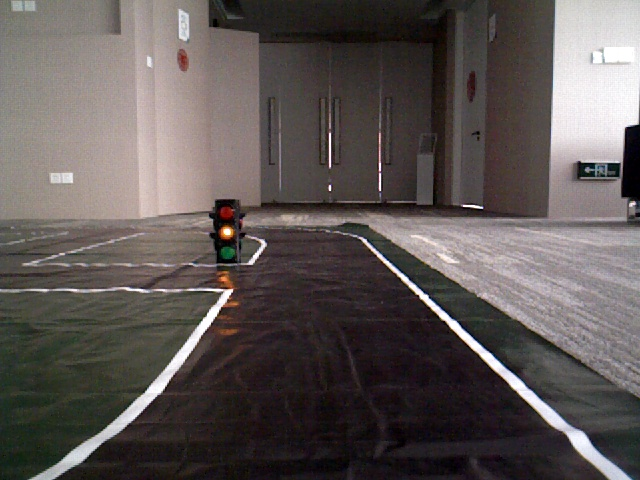yellow: (214, 199, 238, 259)
